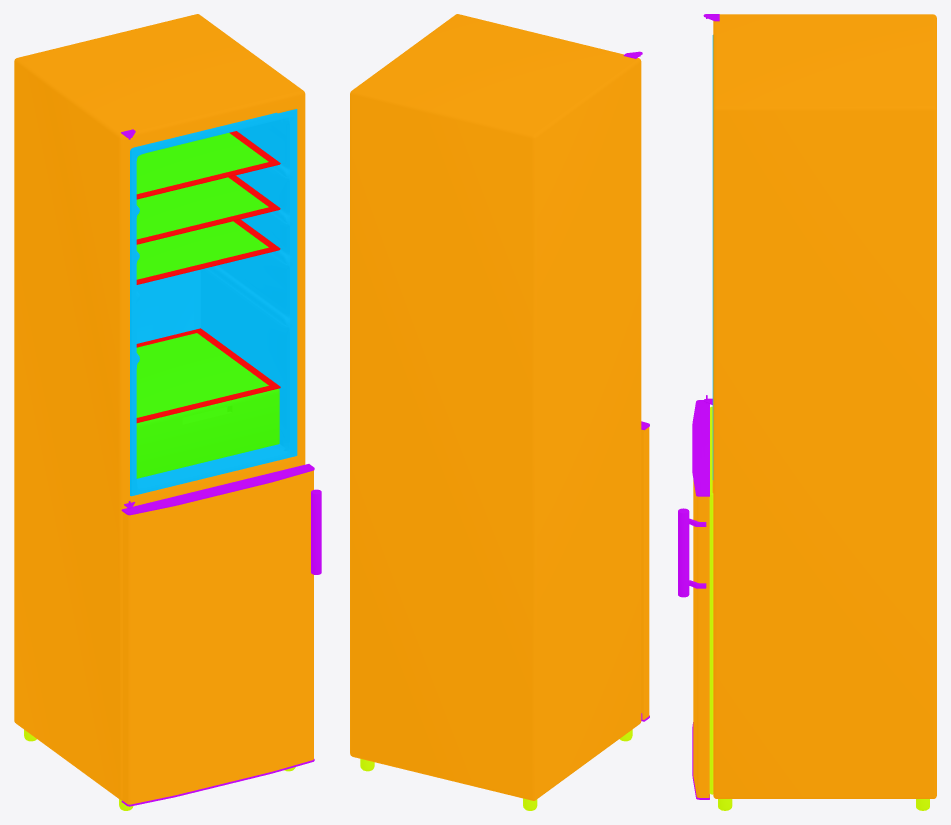
Rendered from FridgeTest02.fbx.
The picture shows the model from 3 angles, left to right: view 1: azimuth 30°, elevation 25°; view 2: azimuth 150°, elevation 25°; view 3: azimuth 270°, elevation 25°; orthographic projection. The views are drawn at different scales.
Visible parts, largest first — view 1: RubberYellow; view 2: RubberYellow; view 3: RubberYellow.
Boxes of the visible parts, x1,y1,x2,y2 form: RubberYellow: (14, 14, 321, 810); RubberYellow: (350, 14, 649, 810); RubberYellow: (678, 14, 936, 810).
Bounding box in the file's own units: 60.89 × 210 × 69.46.
